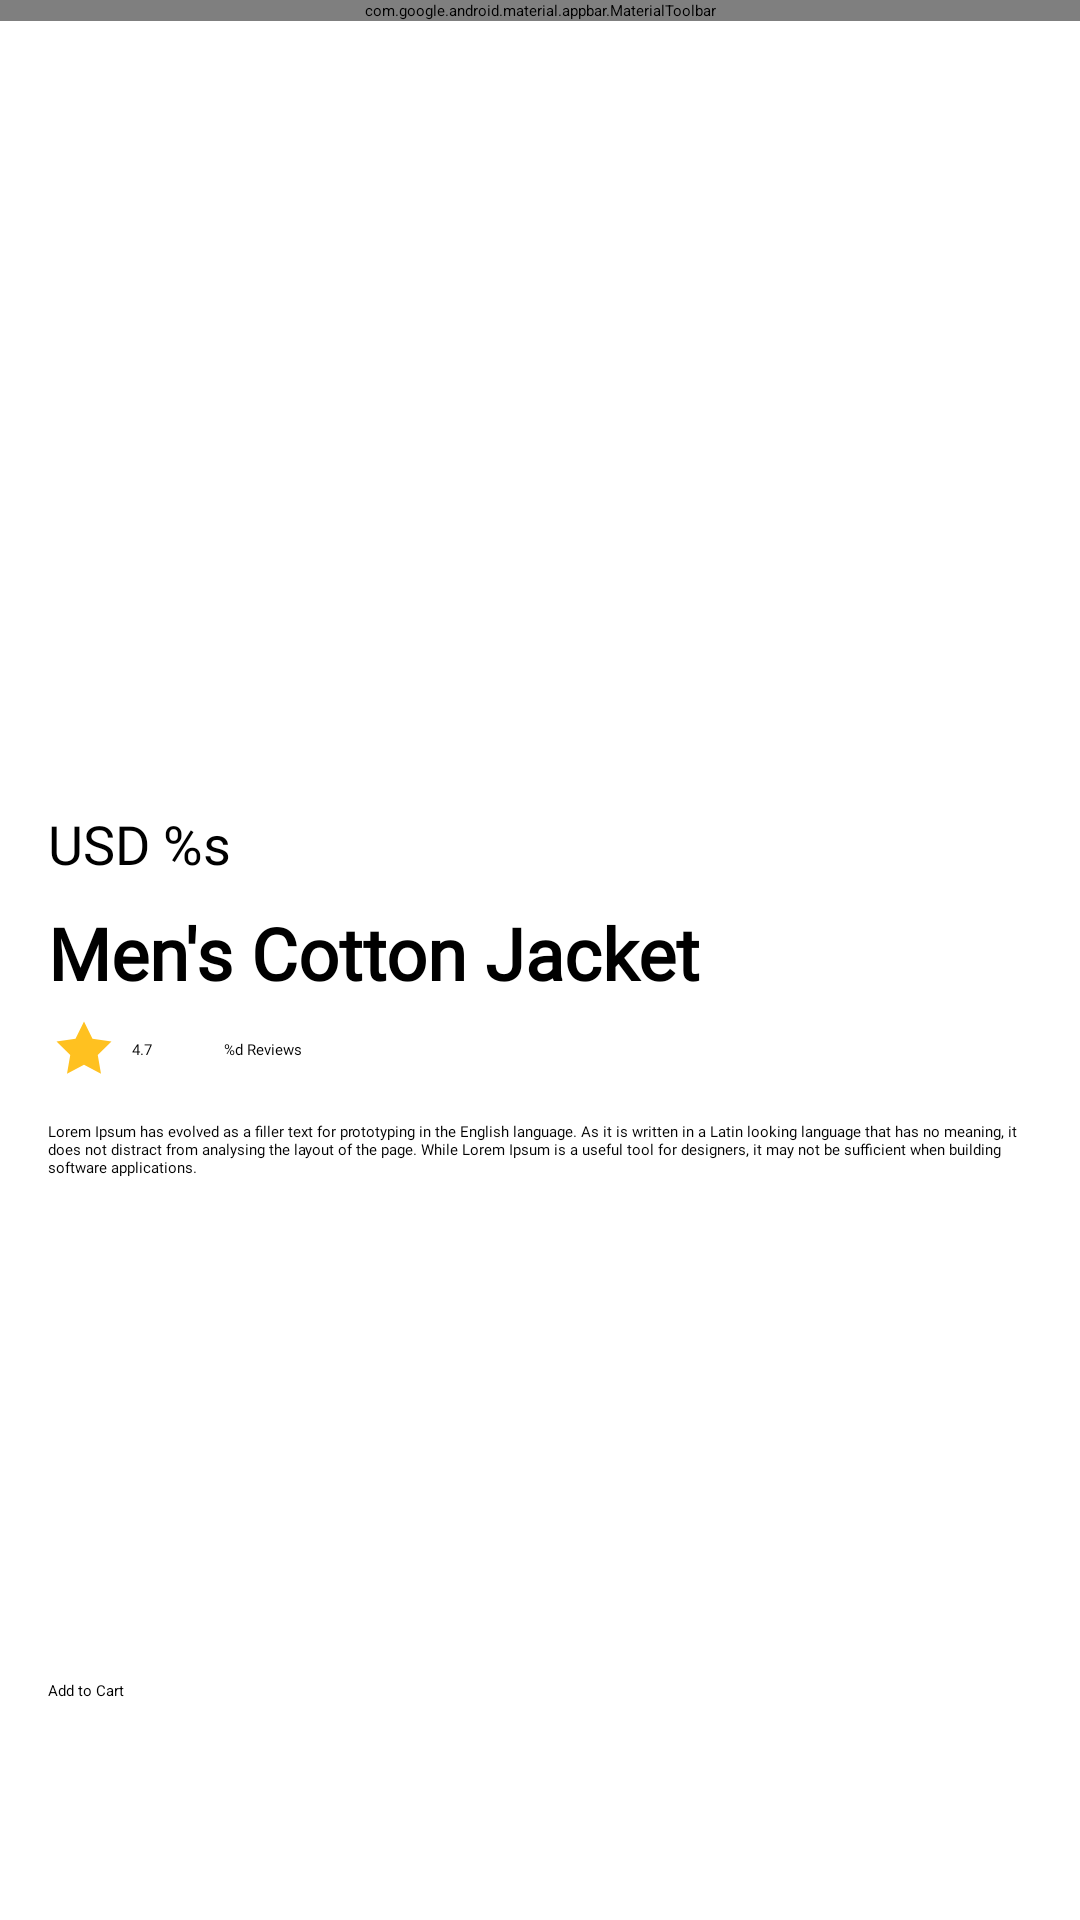

Icons on this 1080px x 1920px Android screen, each with its box as (x1, y1, x2, y2):
star: (56, 1022, 112, 1074)
